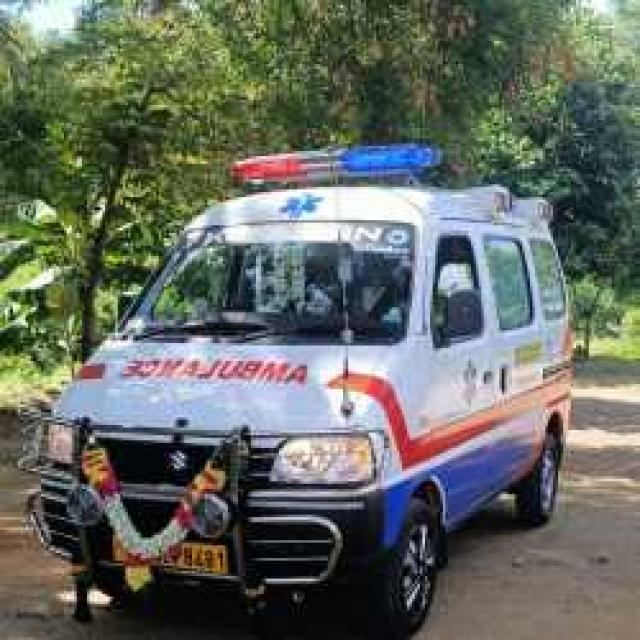ambulance: (55, 128, 594, 620)
